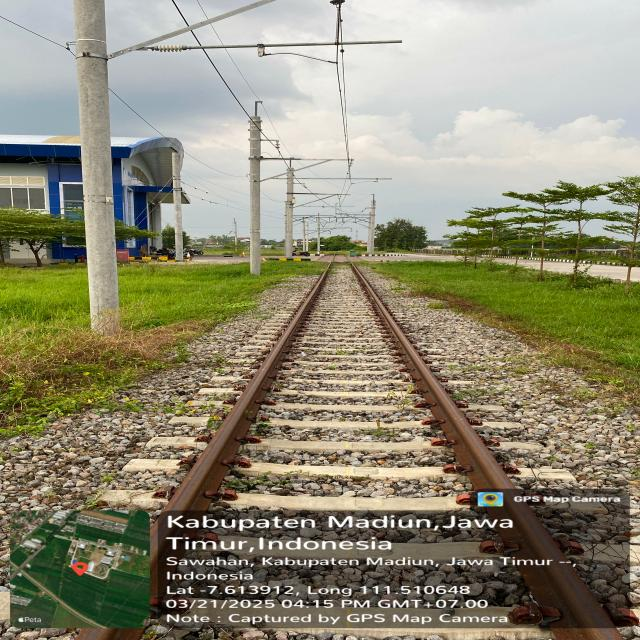rail-detection: (351, 266, 619, 640), (165, 271, 328, 515)
